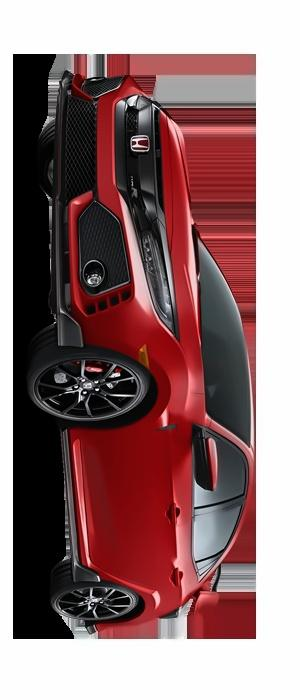Car hood: (162, 110, 212, 401)
Fender - -F-L-: (37, 308, 235, 440)
Front bumper: (41, 67, 135, 354)
Headlight - -L-: (139, 227, 180, 344)
Passenger-s door - -F-L-: (52, 409, 268, 527)
Passenger-s door - -R-L-: (56, 489, 283, 598)
Side bumper - -L-: (50, 419, 103, 583)
Side mirror - -L-: (185, 416, 222, 496)
